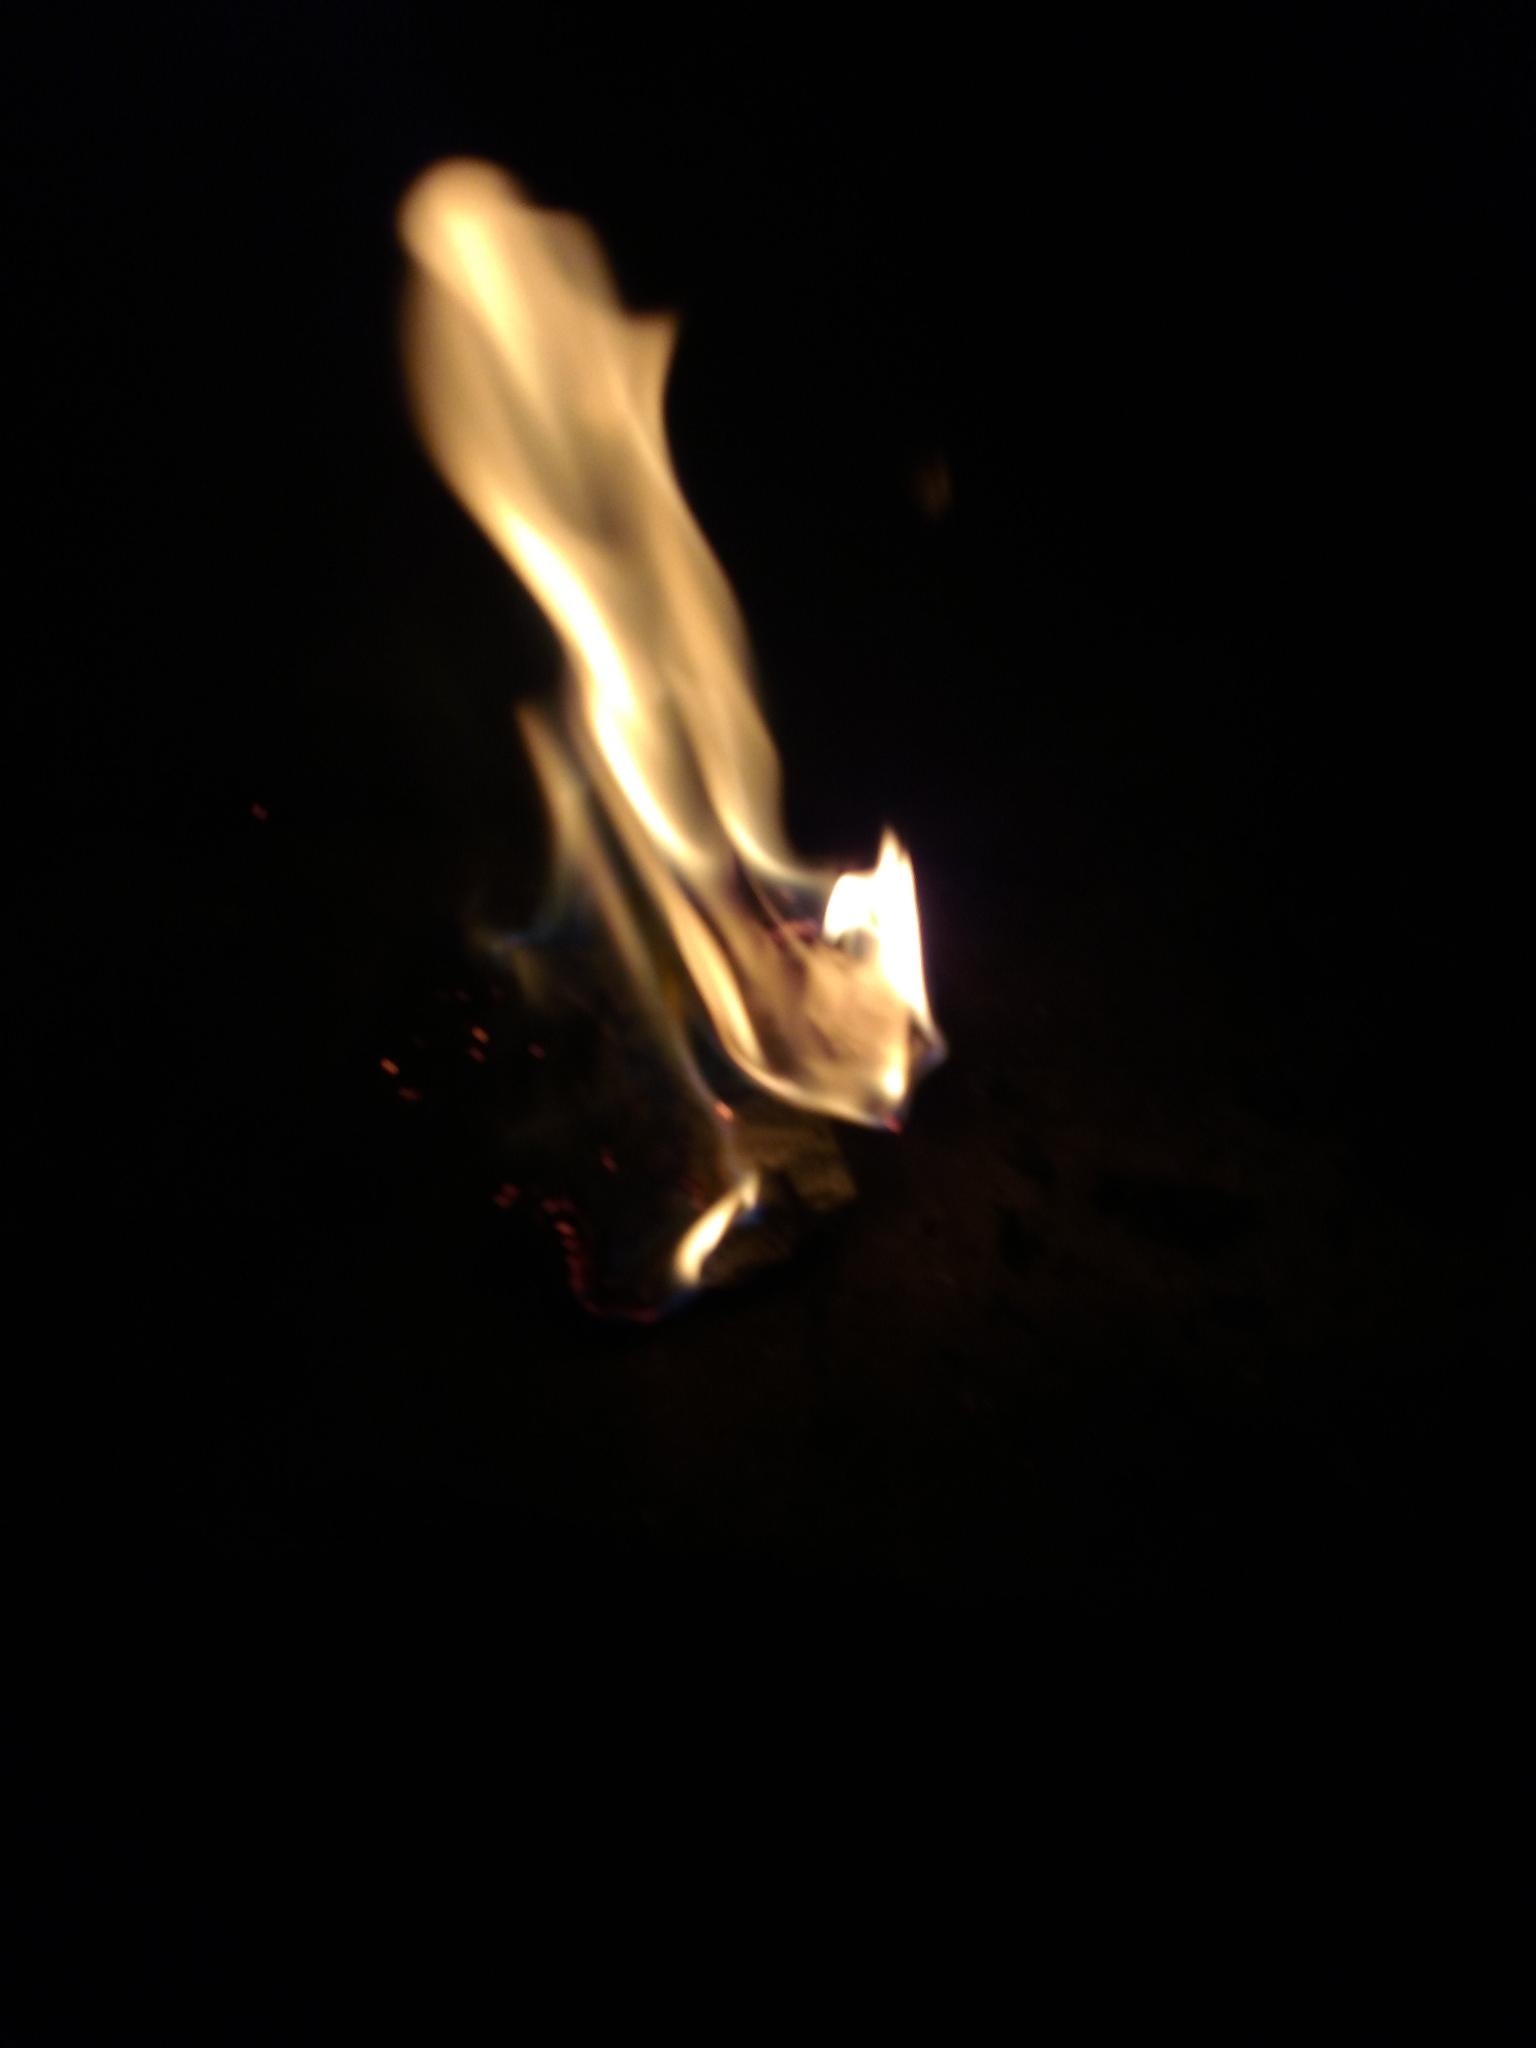Fire: (381, 145, 954, 1301)
